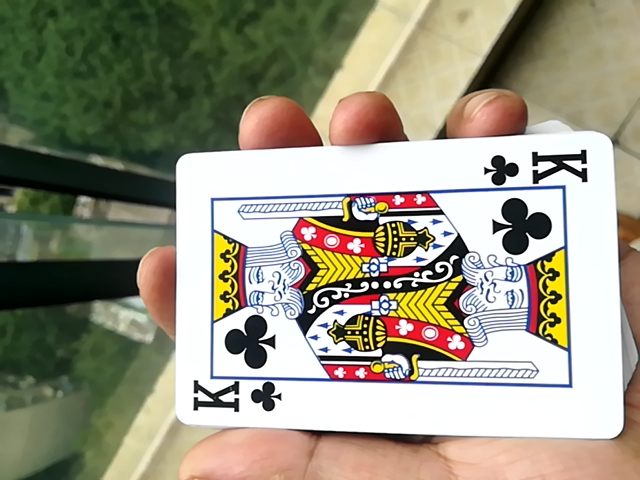mh k: (165, 136, 618, 447)
